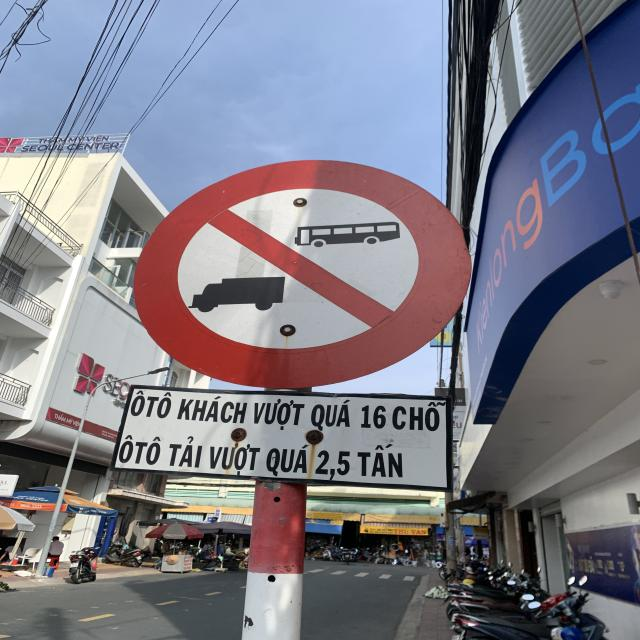Cam_XeTai_XeKhach: (135, 157, 472, 387)
